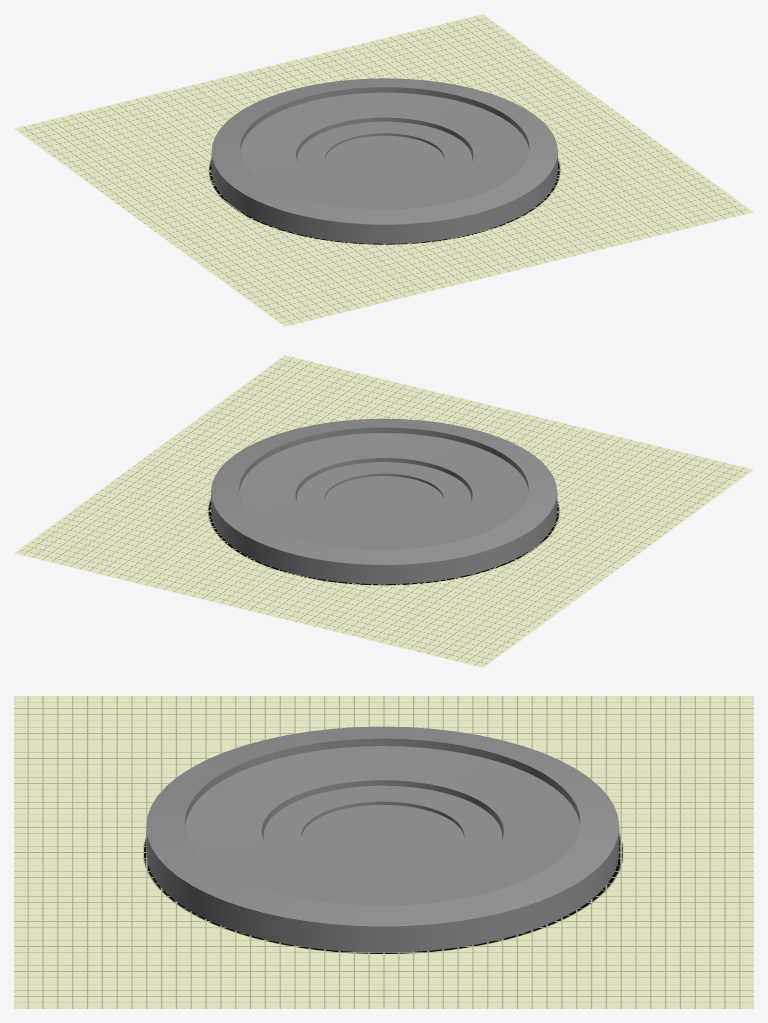
The model's file is RingsTest 1.FBX.
3 renders of one model, top to bottom at view 1: azimuth 30°, elevation 25°; view 2: azimuth 150°, elevation 25°; view 3: azimuth 270°, elevation 25°, orthographic. The views are drawn at different scales.
Parts seen in each view (by area): view 1: Plane001, OuterRing, MiddleRing, OuterCenter, Center; view 2: Plane001, OuterRing, MiddleRing, OuterCenter, Center; view 3: Plane001, OuterRing, MiddleRing, OuterCenter, Center.
Part boxes in pixels (x1,y1,x2,y2): Plane001: [14, 14, 753, 326]; OuterRing: [211, 78, 557, 243]; MiddleRing: [240, 92, 529, 209]; OuterCenter: [297, 121, 472, 192]; Center: [325, 135, 444, 183]; Plane001: [14, 355, 753, 667]; OuterRing: [211, 418, 557, 584]; MiddleRing: [239, 433, 528, 549]; OuterCenter: [296, 462, 471, 532]; Center: [324, 476, 443, 524]; Plane001: [14, 696, 753, 1008]; OuterRing: [146, 726, 619, 952]; MiddleRing: [185, 746, 579, 905]; OuterCenter: [263, 785, 502, 882]; Center: [301, 805, 463, 870].
Bounding box in the file's own units: 99.83 × 7.09 × 99.83.
